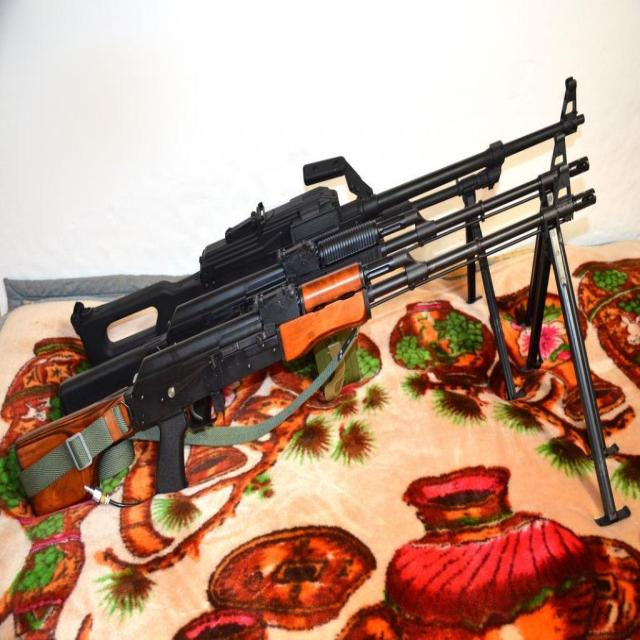firearm: (16, 186, 600, 516), (61, 131, 586, 412), (74, 76, 586, 362)
